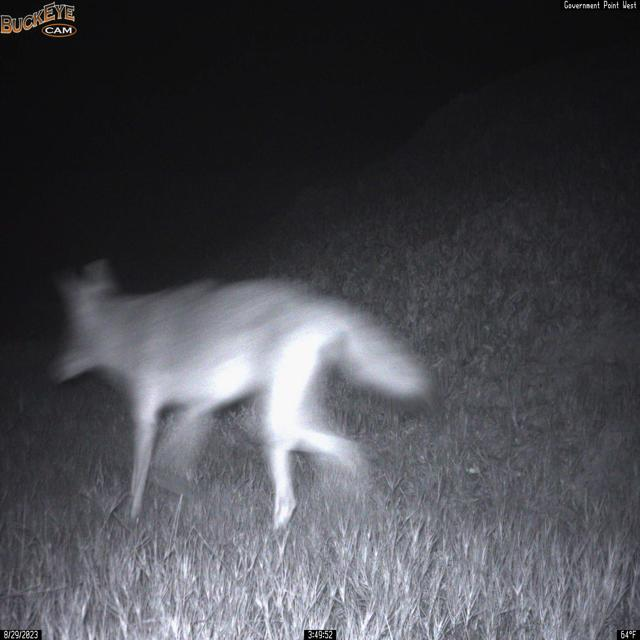coyote: (47, 255, 439, 536)
